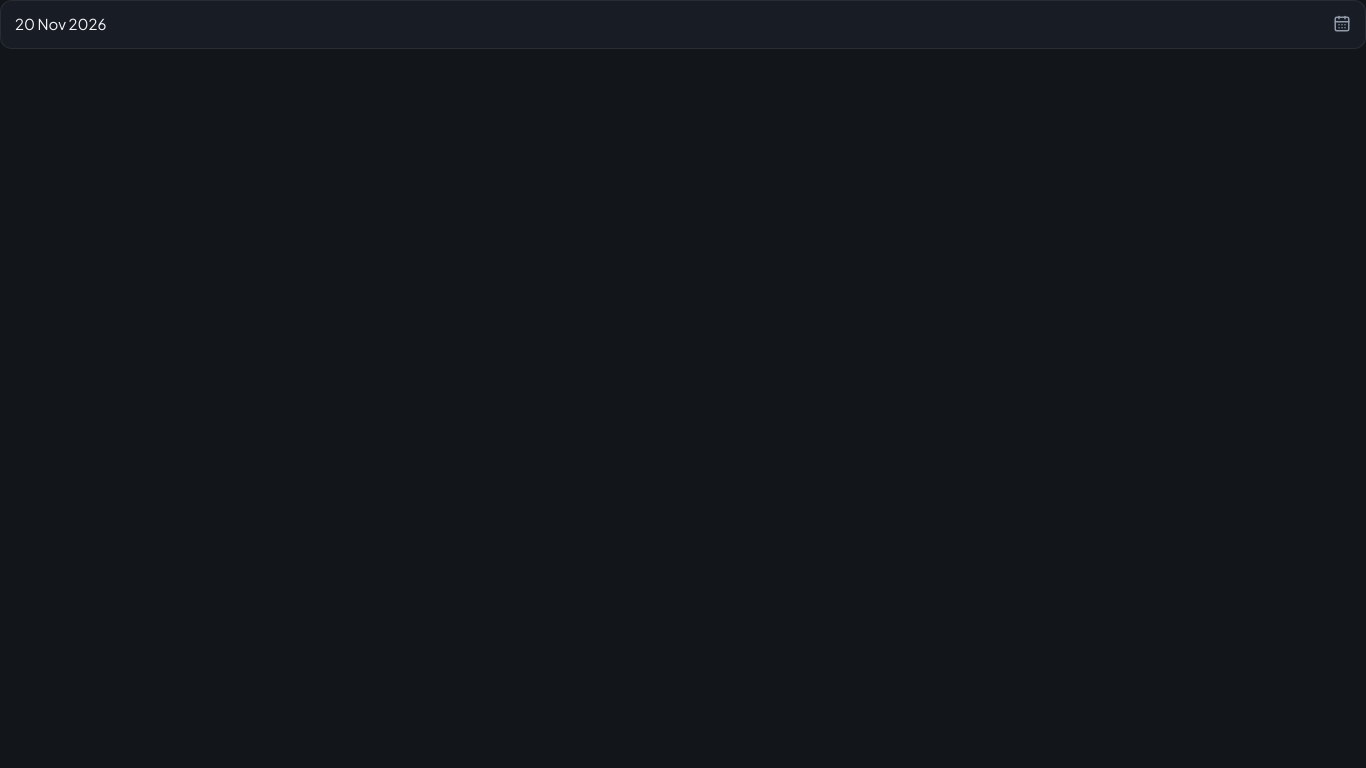
Scenario: DatePicker on a desktop screen (a calendar under the field) › closes on Escape and on a click outside
The width and height of the screenshot is (1366, 768).
Click the button with aria-label "Day" at (61, 24), box x1=0 y1=0 x2=1365 y2=48
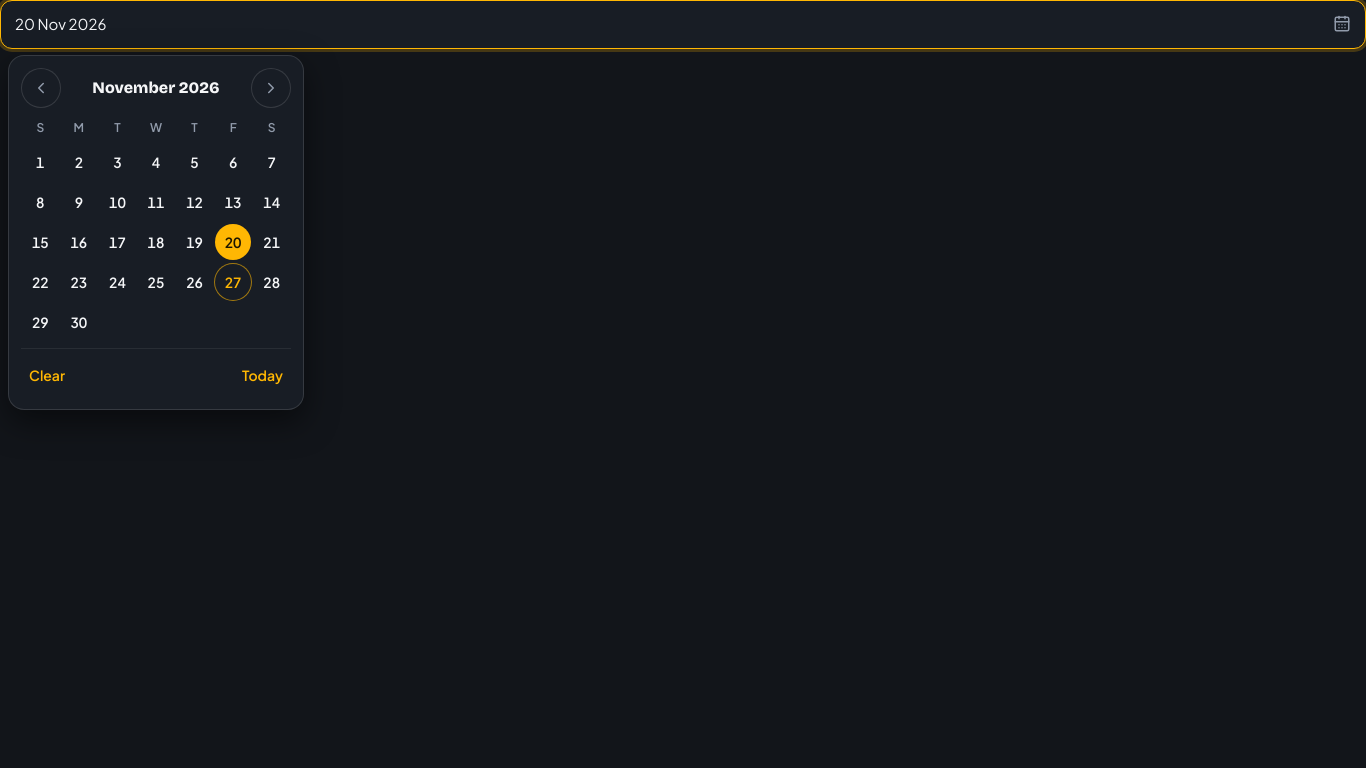
Press Escape
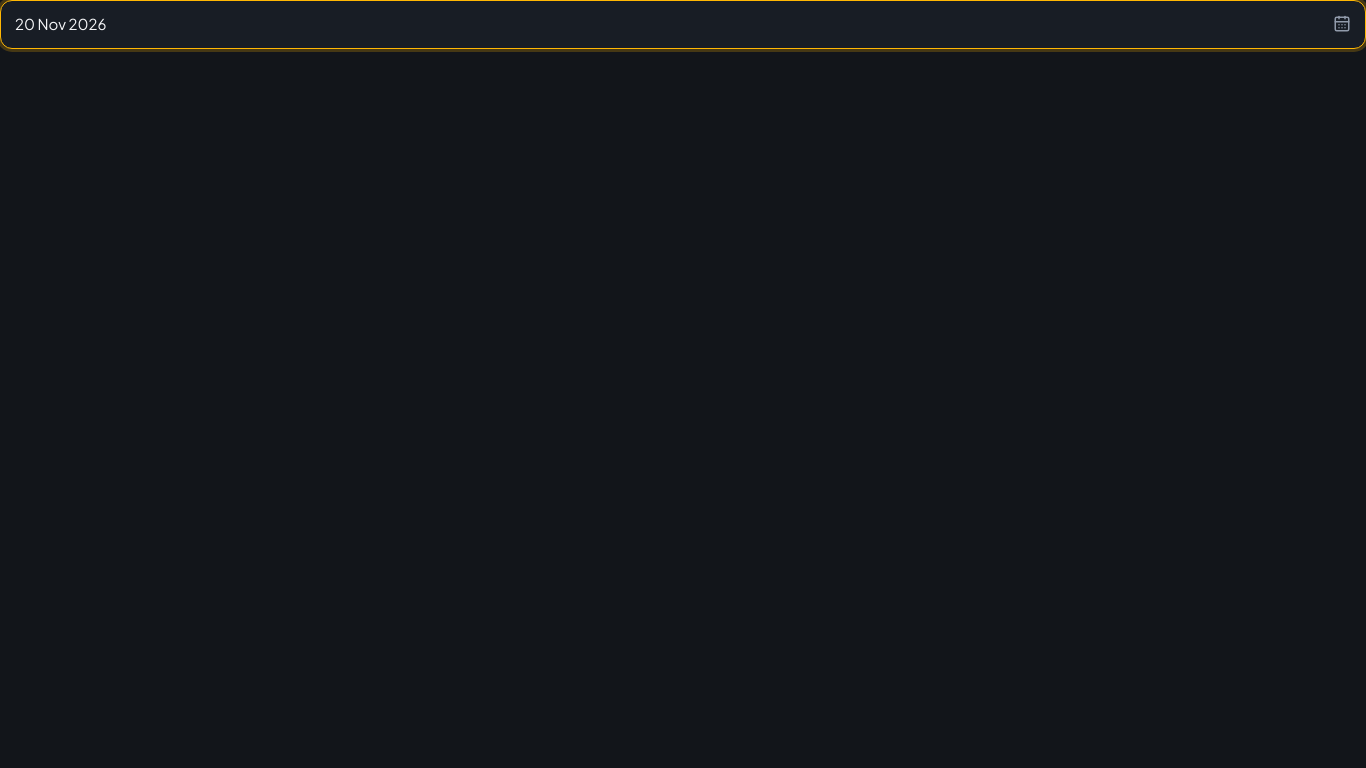
Result: the dialog is gone
Click the button with aria-label "Day" at (61, 24), box x1=0 y1=0 x2=1365 y2=48
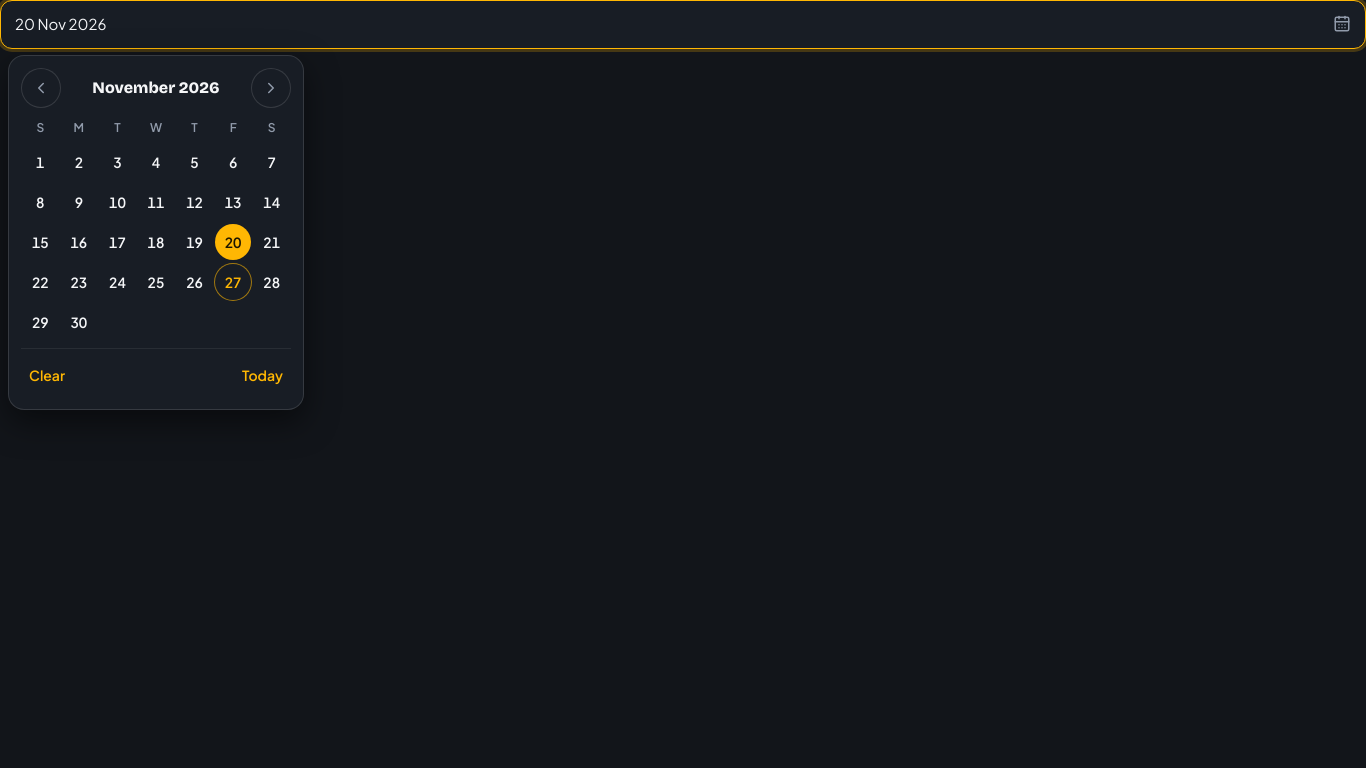
Click the element that starts with "20 Nov 2026" at (683, 384), box x1=0 y1=0 x2=1365 y2=767
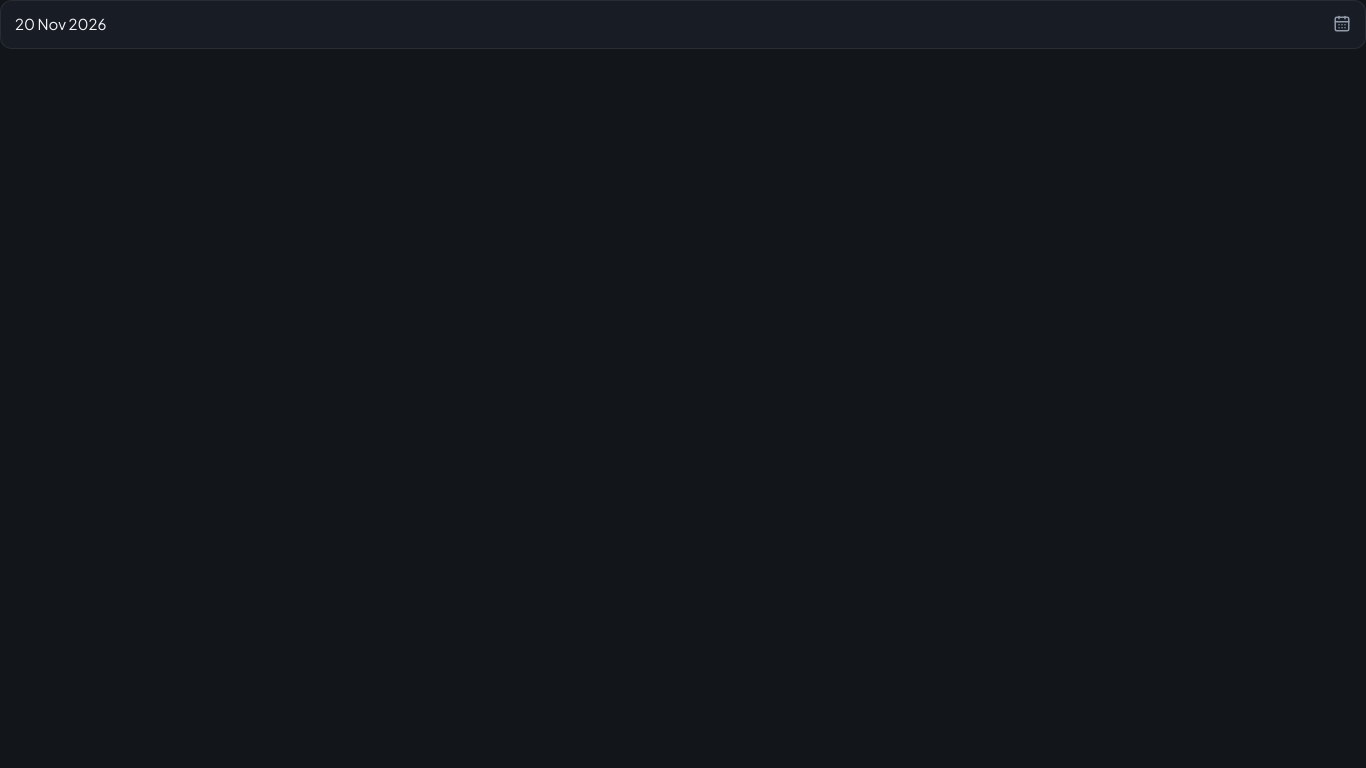
Result: the dialog is gone
